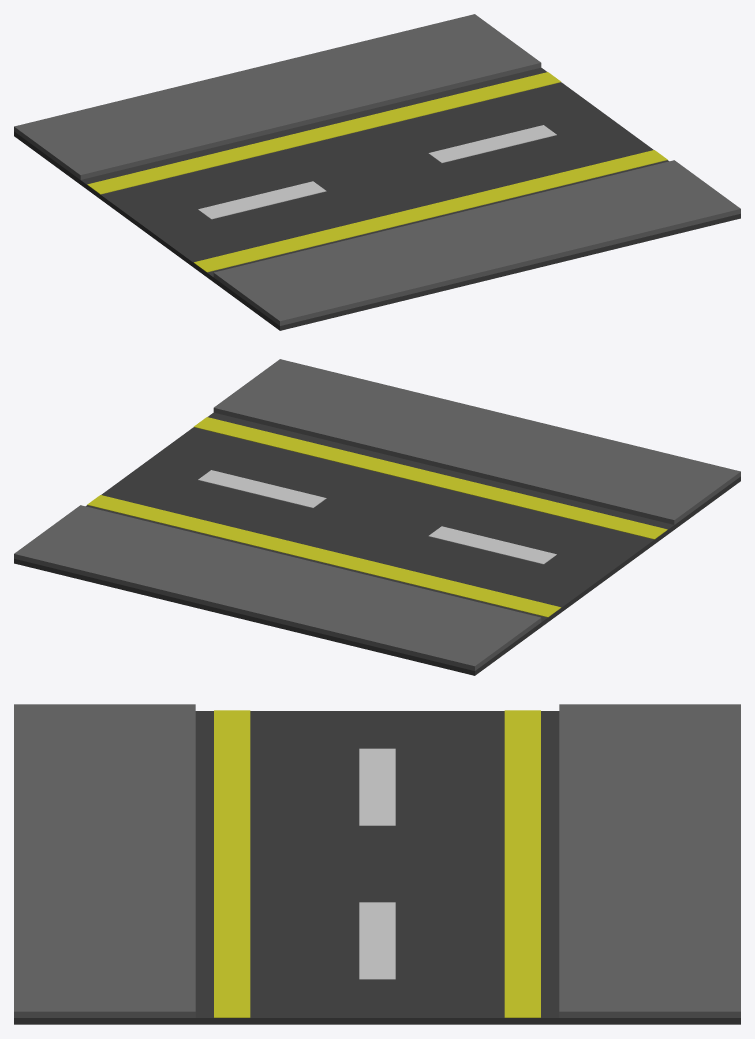
The model's file is Road.fbx.
3 renders of one model, top to bottom at view 1: azimuth 30°, elevation 25°; view 2: azimuth 150°, elevation 25°; view 3: azimuth 270°, elevation 25°, orthographic. The views are drawn at different scales.
Parts seen in each view (by area): view 1: Base; view 2: Base; view 3: Base.
Part boxes in pixels (x1,y1,x2,y2): Base: (14,14,740,330); Base: (14,359,740,675); Base: (14,704,740,1024).
Size of the model in its own units: 1000 by 20 by 1000.
